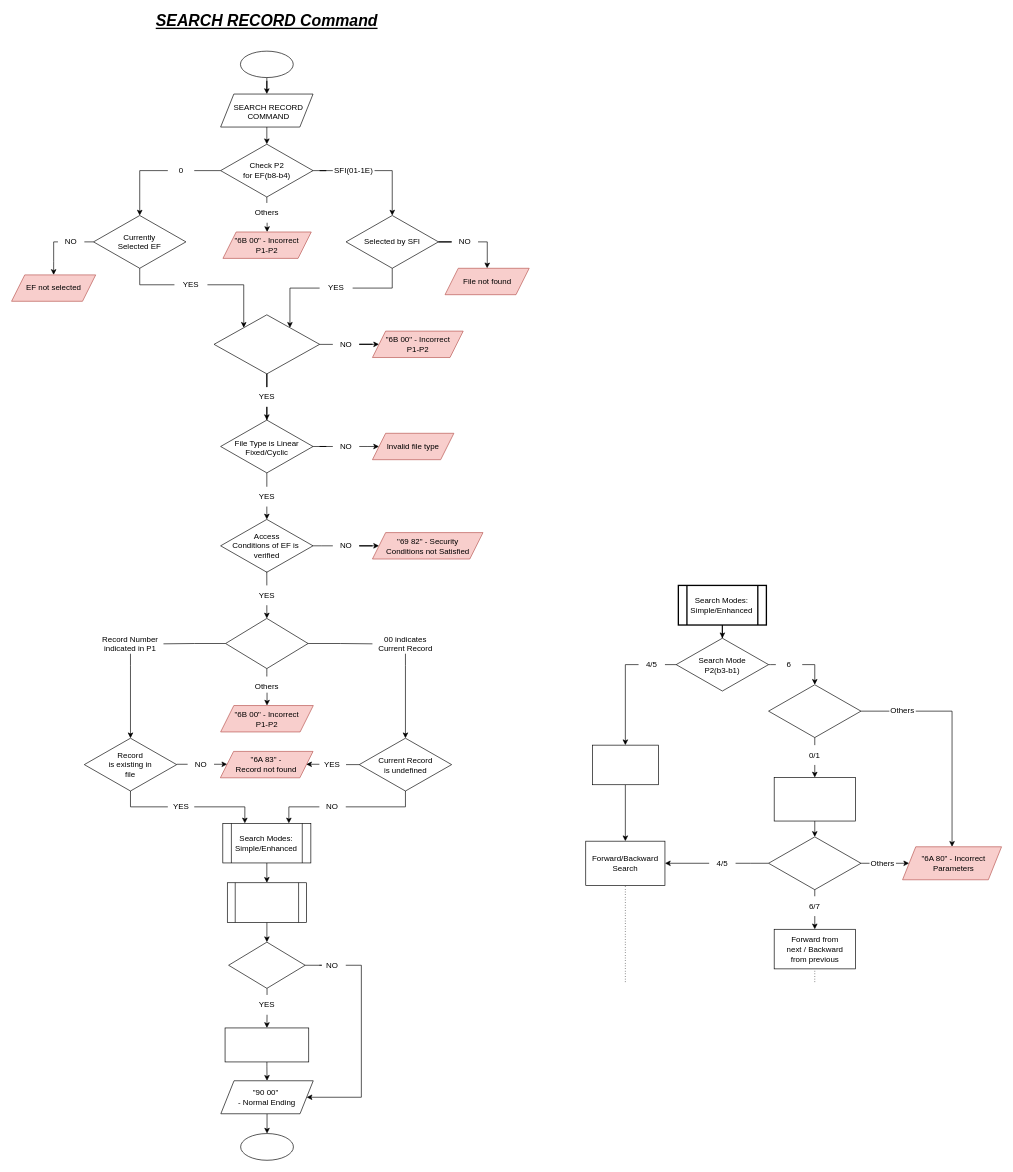
This 1013x1172 diagram has some shape labels left out. Here are the shapes that lost their labels. From the top down, the box of each, then its label:
(240, 50, 293, 78): START
(213, 314, 320, 374): Check P2= Forward/Backward/ Enhanced (b3-b1)
(225, 618, 308, 669): Record Selection Mode in P1
(768, 684, 861, 738): Enhanced Search Mode (b8-b4)
(592, 744, 658, 785): Simple Search
(774, 777, 855, 821): Offset / First Byte Occurrence Mode
(768, 836, 861, 890): Search Direction (b3-b1)
(227, 882, 307, 922): SEARCH RECORD
(228, 941, 305, 988): Match Found?
(224, 1027, 309, 1062): Prepare response of Record numbers
(240, 1133, 293, 1160): END
